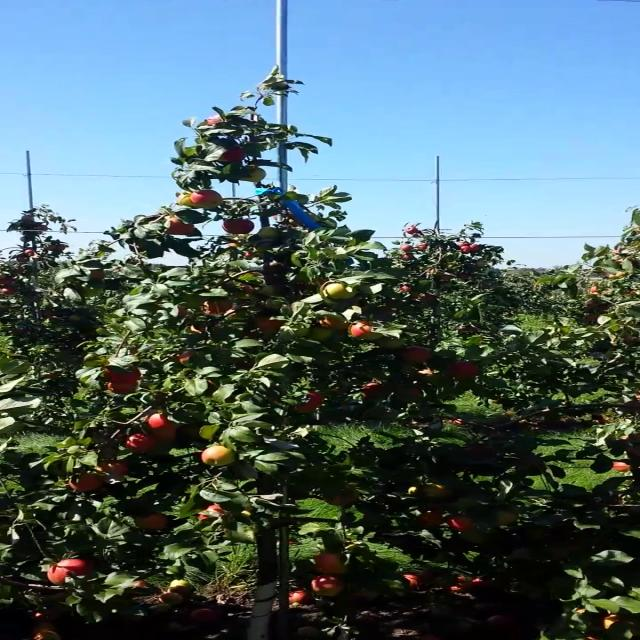apple: (46, 559, 94, 586), (348, 320, 388, 342), (286, 392, 326, 414), (199, 446, 237, 468), (314, 553, 350, 575), (307, 574, 342, 596), (320, 488, 360, 507), (406, 484, 451, 500), (67, 473, 106, 491), (146, 412, 180, 432), (124, 432, 158, 452), (191, 190, 222, 210), (133, 513, 167, 531), (326, 280, 358, 299), (104, 367, 141, 383), (456, 528, 490, 545), (446, 361, 478, 379), (222, 218, 254, 235), (166, 217, 196, 235), (203, 298, 233, 316), (99, 460, 129, 478), (414, 510, 444, 528), (446, 512, 476, 530), (602, 614, 634, 630), (400, 348, 430, 364), (196, 504, 226, 520), (219, 145, 247, 161), (254, 317, 284, 331), (413, 367, 438, 383), (105, 382, 138, 394), (318, 317, 347, 330), (310, 327, 336, 341), (360, 382, 385, 396), (374, 339, 407, 349), (246, 166, 266, 182), (497, 509, 517, 525), (258, 284, 282, 296), (610, 461, 634, 473), (258, 226, 281, 238), (177, 194, 196, 208), (154, 431, 178, 442), (177, 350, 192, 365), (610, 270, 627, 282), (408, 387, 425, 397), (633, 387, 640, 411), (226, 238, 242, 248), (38, 310, 57, 318), (587, 300, 602, 310), (205, 118, 223, 126), (628, 224, 640, 236), (242, 250, 256, 260), (588, 284, 602, 293), (585, 315, 599, 324), (417, 291, 432, 299), (0, 288, 20, 294), (399, 285, 416, 292), (457, 272, 471, 280), (0, 278, 15, 285), (404, 226, 417, 234), (400, 244, 412, 252), (430, 267, 442, 275), (418, 242, 430, 250), (624, 290, 640, 296), (57, 245, 67, 254), (458, 247, 470, 254), (20, 216, 34, 222), (612, 247, 624, 254), (472, 244, 482, 252), (36, 225, 49, 231), (45, 243, 56, 250), (475, 260, 487, 266), (456, 242, 472, 246), (24, 250, 34, 256), (401, 254, 411, 259)
